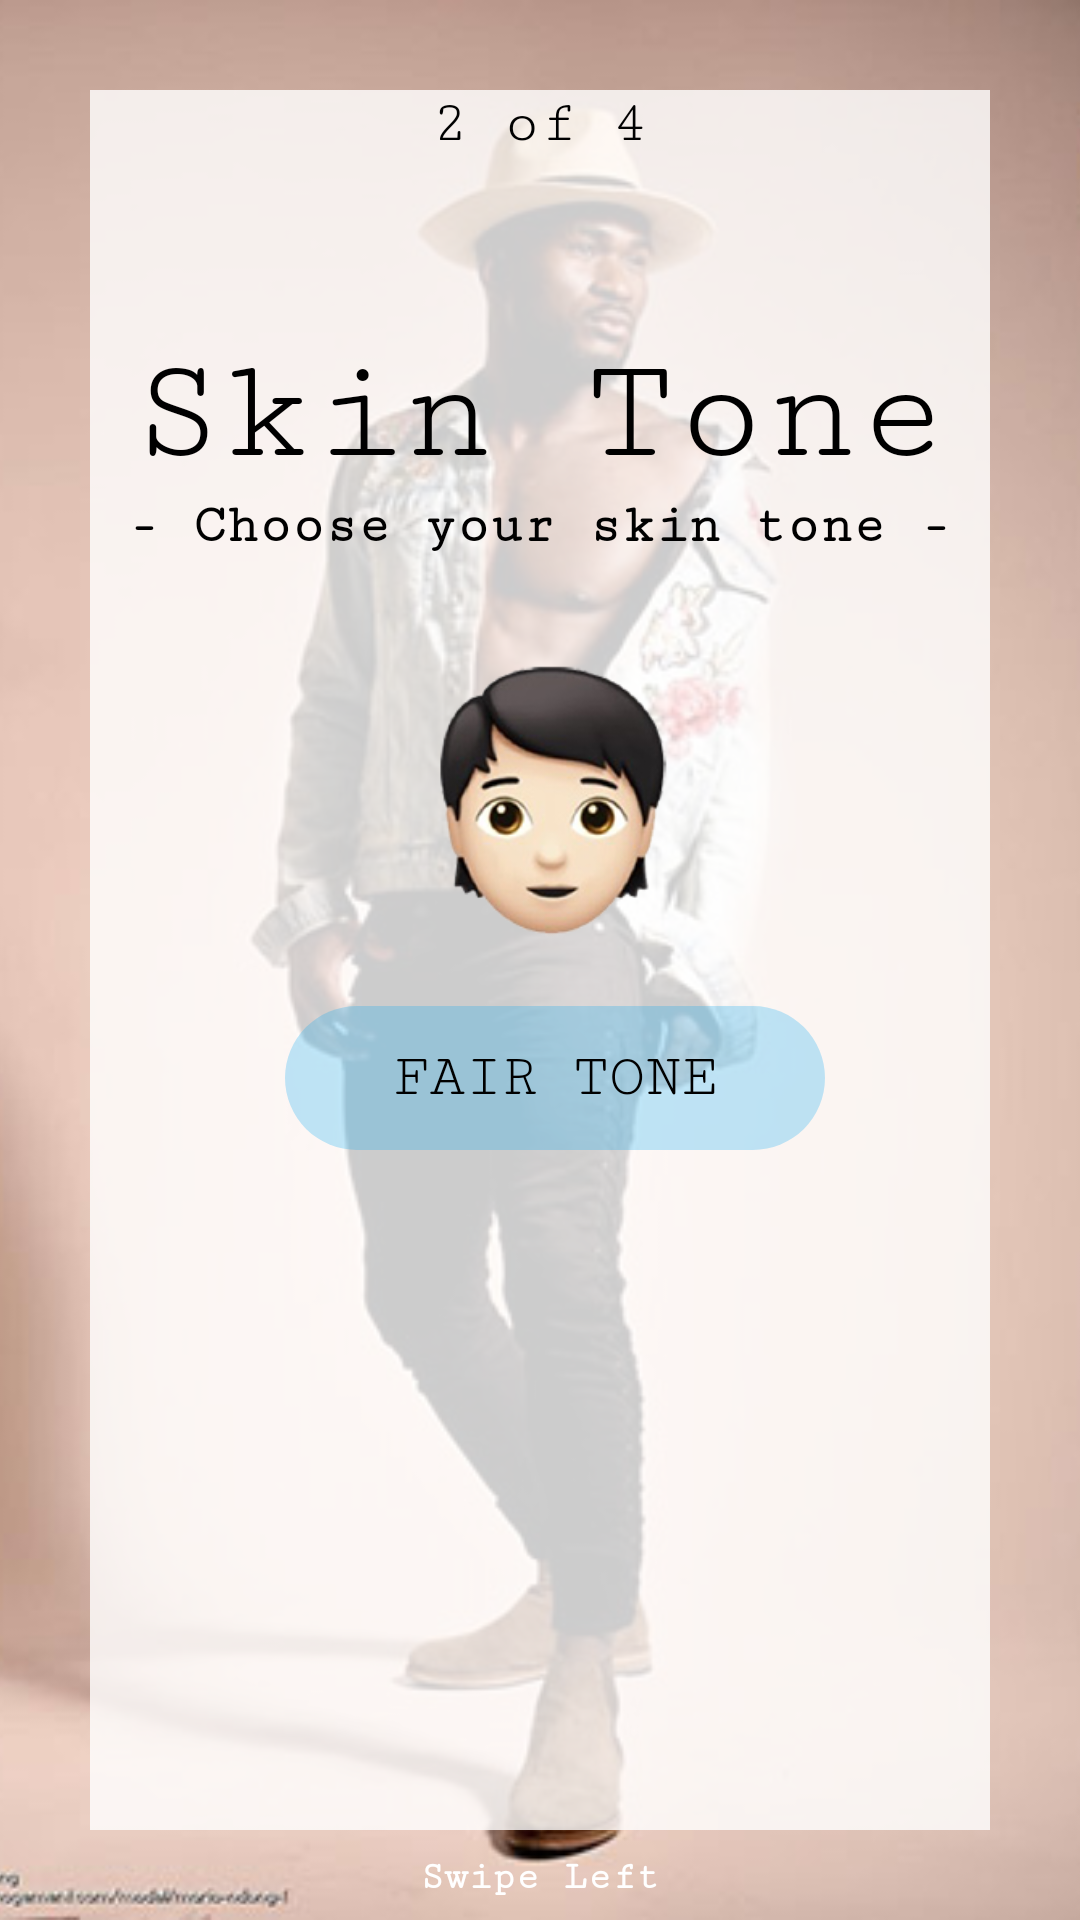

Screen size 1080*1920. Icon name, then its center in pixels as (x=x, y=y):
male fair: (x=555, y=796)
